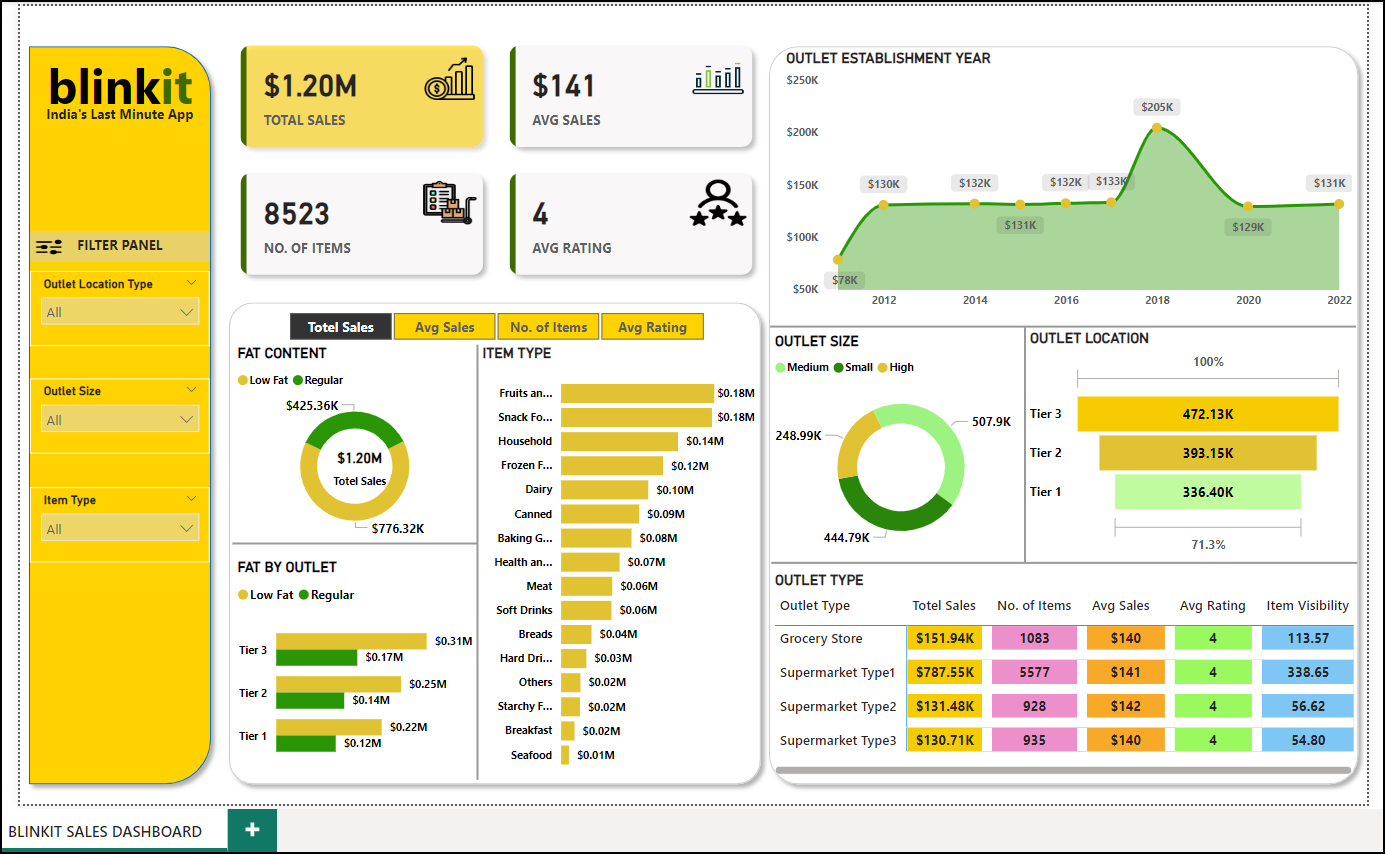

Layout of this report page (visuals, bound fields, positions):
{"tool":"powerbi","page":{"name":"BLINKIT SALES DASHBOARD","canvas":[1350,800],"ordinal":0},"visuals":[{"type":"shape","box":[0,31.3,200.3,757.4],"z":0},{"type":"textbox","box":[13.8,41.3,172.8,73.9],"z":1000},{"type":"textbox","box":[13.8,93.9,172.8,37.6],"z":2000},{"type":"cardVisual","fields":{"Data":["#Measure.Totel Sales","#Measure.Avg Sales","#Measure.No. of Items","#Measure.Avg Rating"]},"box":[204.1,22.5,547.1,265.4],"z":3000},{"type":"image","box":[398.1,41.3,65.1,60.1],"z":4000},{"type":"image","box":[666,43.8,66.4,57.6],"z":5000},{"type":"image","box":[398.1,169,65.1,56.3],"z":6000},{"type":"image","box":[666,169,66.4,56.3],"z":7000},{"type":"shape","box":[200.3,287.9,550.9,500.8],"z":8000},{"type":"donutChart","title":"FAT CONTENT","fields":{"Y":["#Measure.Totel Sales"],"Category":["BlinkIT Grocery Data.Item Fat Content"]},"box":[212.8,339.3,245.4,199.1],"z":9000},{"type":"slicer","fields":{"Values":["Matrics.Matrics"]},"box":[244.1,300.5,464.5,40.1],"z":10000},{"type":"cardVisual","fields":{"Data":["#Measure.Totel Sales"]},"box":[279.2,431.9,122.7,62.6],"z":11000},{"type":"clusteredBarChart","title":"FAT BY OUTLET","fields":{"Y":["#Measure.Totel Sales"],"Category":["BlinkIT Grocery Data.Outlet Location Type"],"Series":["BlinkIT Grocery Data.Item Fat Content"]},"box":[212.8,553.4,245.4,217.8],"z":12000},{"type":"shape","box":[212.8,509.5,245.4,57.6],"z":13000},{"type":"shape","box":[419.4,339.3,77.6,435.7],"z":14000},{"type":"barChart","title":"ITEM TYPE","fields":{"Y":["#Measure.Totel Sales"],"Category":["BlinkIT Grocery Data.Item Type"]},"box":[458.2,339.3,282.9,435.7],"z":15000},{"type":"shape","box":[741.2,31.3,608.5,757.4],"z":16000},{"type":"areaChart","title":"OUTLET ESTABLISHMENT YEAR","fields":{"Category":["BlinkIT Grocery Data.Outlet Establishment Year"],"Y":["#Measure.Totel Sales"]},"box":[762.4,43.8,577.2,267.9],"z":17000},{"type":"shape","box":[751.2,272.9,587.2,96.4],"z":18000},{"type":"donutChart","title":"OUTLET SIZE","fields":{"Y":["Sum(BlinkIT Grocery Data.Sales)"],"Category":["BlinkIT Grocery Data.Outlet Size"]},"box":[751.2,326.8,262.9,226.6],"z":19000},{"type":"funnel","title":"OUTLET LOCATION","fields":{"Category":["BlinkIT Grocery Data.Outlet Location Type"],"Y":["Sum(BlinkIT Grocery Data.Sales)"]},"box":[1006.6,324.3,324.3,230.4],"z":20000},{"type":"shape","box":[752.4,509.5,587.2,96.4],"z":21000},{"type":"shape","box":[967.8,321.8,77.6,235.4],"z":22000},{"type":"pivotTable","title":"OUTLET TYPE","fields":{"Values":["#Measure.Totel Sales","#Measure.No. of Items","#Measure.Avg Sales","#Measure.Avg Rating","Sum(BlinkIT Grocery Data.Item Visibility)"],"Rows":["BlinkIT Grocery Data.Outlet Type"]},"box":[751.2,565.9,589.7,209.1],"z":23000},{"type":"slicer","fields":{"Values":["BlinkIT Grocery Data.Outlet Location Type"]},"box":[10,265.4,180.3,75.1],"z":24000},{"type":"slicer","fields":{"Values":["BlinkIT Grocery Data.Item Type"]},"box":[10,482,180.3,75.1],"z":25000},{"type":"slicer","fields":{"Values":["BlinkIT Grocery Data.Outlet Size"]},"box":[10,373.1,180.3,75.1],"z":26000},{"type":"textbox","box":[10,225.4,180.3,31.3],"z":27000},{"type":"image","box":[10,227.9,37.6,27.5],"z":28000}]}

Visuals, with their boxes on the page's 1350x800 design canvas (x1, y1, x2, y2). These are canvas units, not pixel positions in the 1385x854 screenshot, which may show the page scaled, cropped or inside an application window:
shape: 0, 31, 200, 789
textbox: 14, 41, 187, 115
textbox: 14, 94, 187, 132
cardVisual - #Measure.Totel Sales x #Measure.Avg Sales: 204, 22, 751, 288
image: 398, 41, 463, 101
image: 666, 44, 732, 101
image: 398, 169, 463, 225
image: 666, 169, 732, 225
shape: 200, 288, 751, 789
"FAT CONTENT" donutChart: 213, 339, 458, 538
slicer - Matrics.Matrics: 244, 300, 709, 341
cardVisual - #Measure.Totel Sales: 279, 432, 402, 494
"FAT BY OUTLET" clusteredBarChart: 213, 553, 458, 771
shape: 213, 510, 458, 567
shape: 419, 339, 497, 775
"ITEM TYPE" barChart: 458, 339, 741, 775
shape: 741, 31, 1350, 789
"OUTLET ESTABLISHMENT YEAR" areaChart: 762, 44, 1340, 312
shape: 751, 273, 1338, 369
"OUTLET SIZE" donutChart: 751, 327, 1014, 553
"OUTLET LOCATION" funnel: 1007, 324, 1331, 555
shape: 752, 510, 1340, 606
shape: 968, 322, 1045, 557
"OUTLET TYPE" pivotTable: 751, 566, 1341, 775
slicer - BlinkIT Grocery Data.Outlet Location Type: 10, 265, 190, 340
slicer - BlinkIT Grocery Data.Item Type: 10, 482, 190, 557
slicer - BlinkIT Grocery Data.Outlet Size: 10, 373, 190, 448
textbox: 10, 225, 190, 257
image: 10, 228, 48, 255
